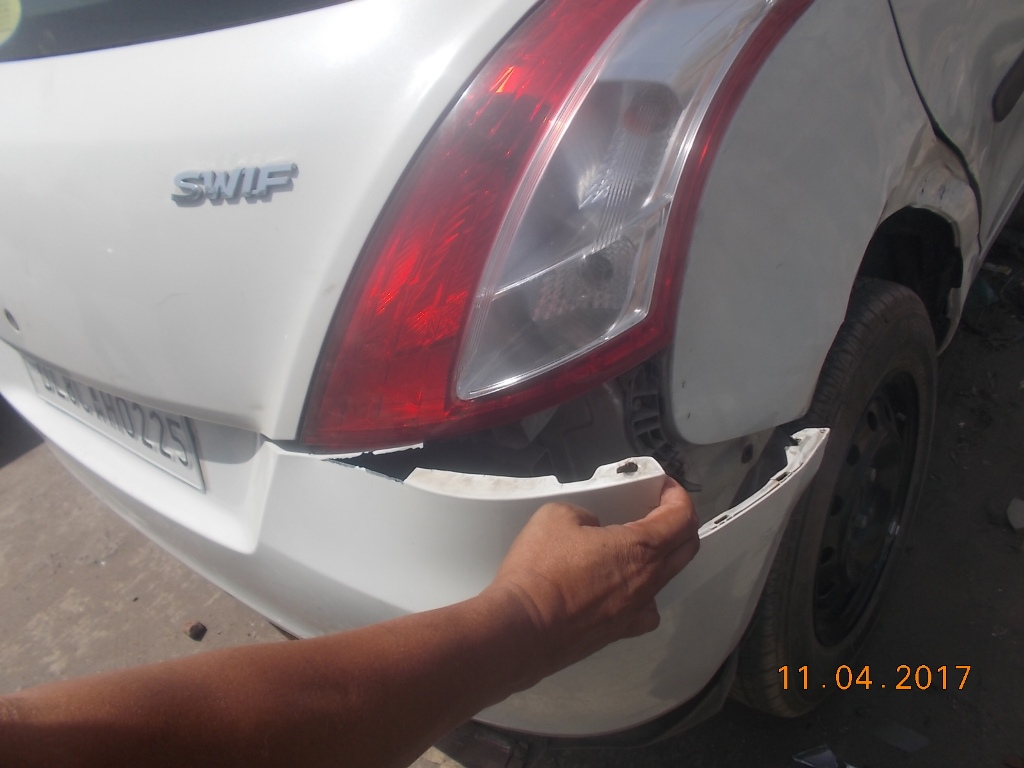Dislocation: (454, 332, 811, 523)
Tear: (339, 424, 430, 506)
